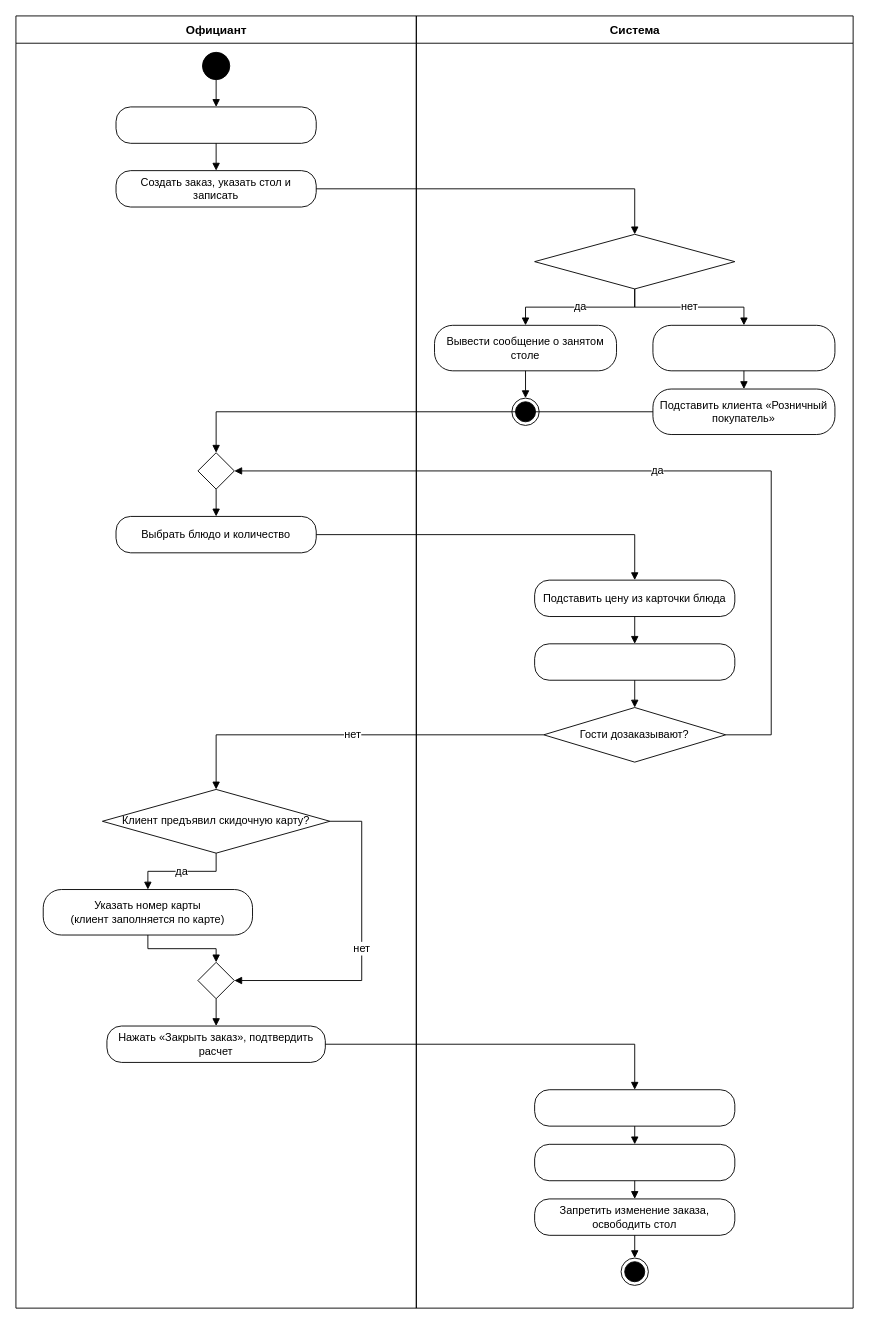
Some shapes in this 869 by 1324 pixel diagram are drawn without their labels. The box of each missing label's shape, as (x1, y1, x2, y2) in pixels:
Выбрать ресторан и стол: (115, 106, 316, 143)
Записать продажи в регистр «Продажи»: (534, 1143, 735, 1181)
На стол уже открыт заказ?: (534, 233, 735, 289)
Пересчитать сумму строки и итог заказа: (534, 643, 735, 680)
Проставить дату и время закрытия: (534, 1089, 735, 1126)
Проставить дату и время открытия: (652, 324, 835, 371)
